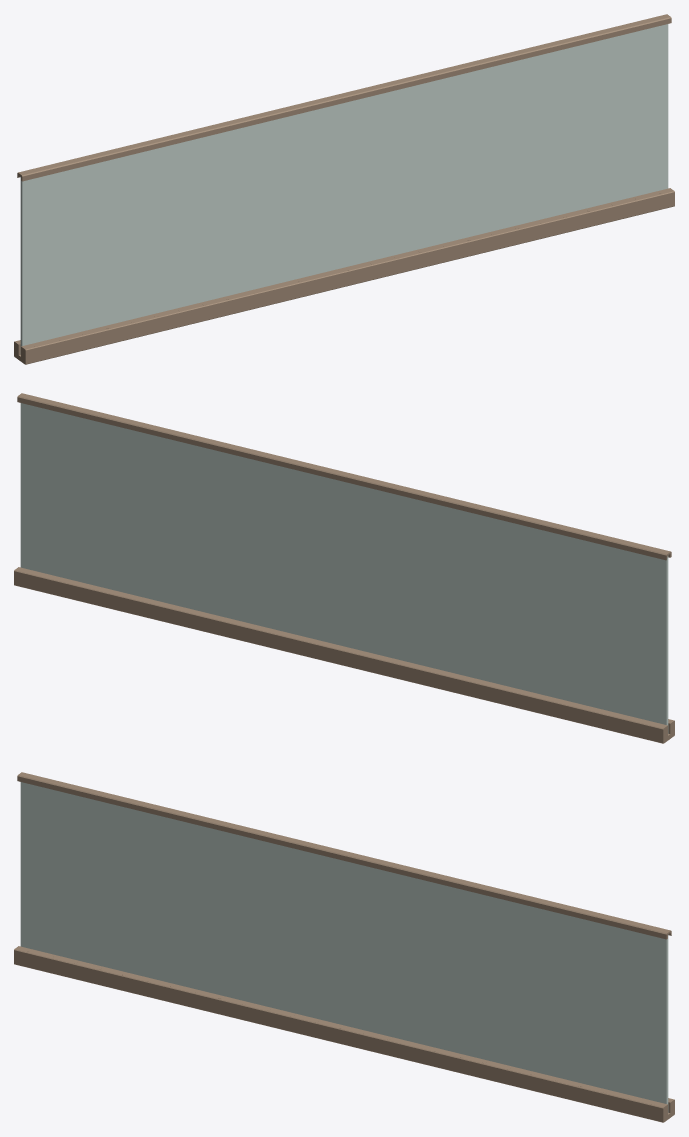
Rendered from gc-glassline-400-quartz-1019.glb.
3 renders of one model, top to bottom at view 1: azimuth 30°, elevation 25°; view 2: azimuth 150°, elevation 25°; view 3: azimuth 330°, elevation 25°, orthographic.
Visible parts, largest first — view 1: verre, structure; view 2: verre, structure; view 3: verre, structure.
Part boxes in pixels (x1,y1,x2,y2): verre: (20,24,668,354); structure: (14,14,674,364); verre: (20,403,668,733); structure: (14,393,674,743); verre: (20,782,668,1112); structure: (14,772,674,1122).
Size of the model in its own units: 4 by 1.1 by 0.125.
